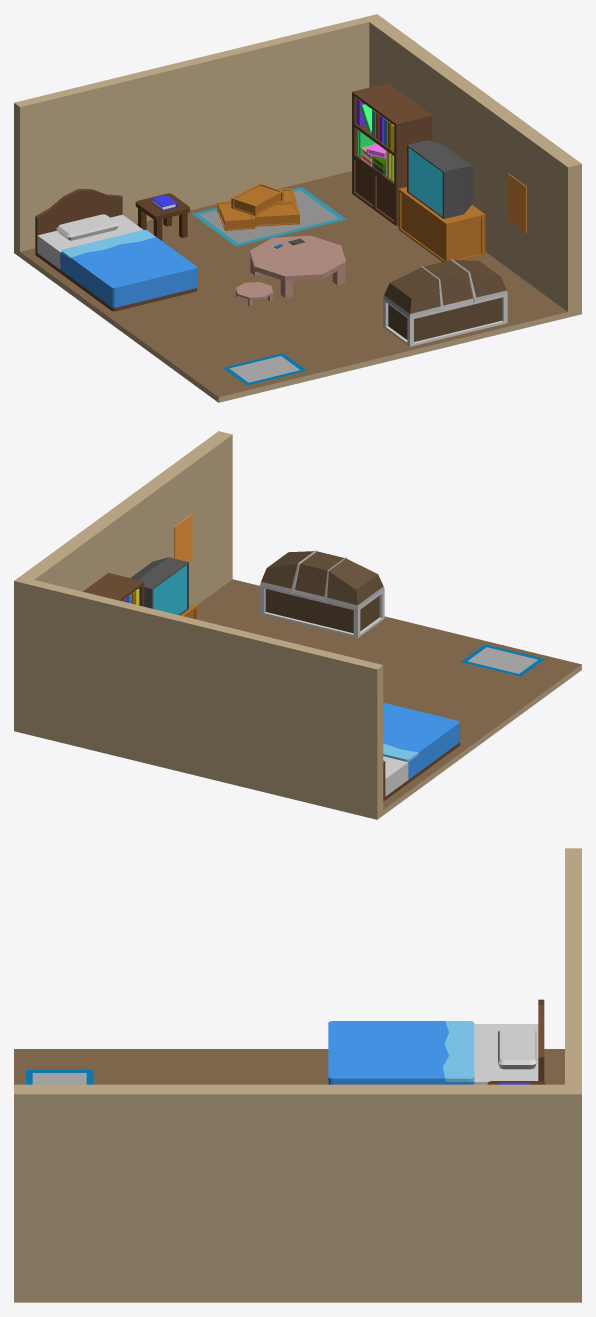
The model's file is sound-stage-final.glb.
3 renders of one model, top to bottom at view 1: azimuth 30°, elevation 25°; view 2: azimuth 150°, elevation 25°; view 3: azimuth 270°, elevation 25°, orthographic. The views are drawn at different scales.
Visible parts, largest first — view 1: Cube.002; view 2: Cube.002; view 3: Cube.002.
Part boxes in pixels (x1,y1,x2,y2): Cube.002: [14, 14, 581, 402]; Cube.002: [14, 431, 581, 819]; Cube.002: [14, 848, 581, 1302].
Bounding box in the file's own units: 10.42 × 4.12 × 10.17.
Materials: 1 (1 with a texture image).
